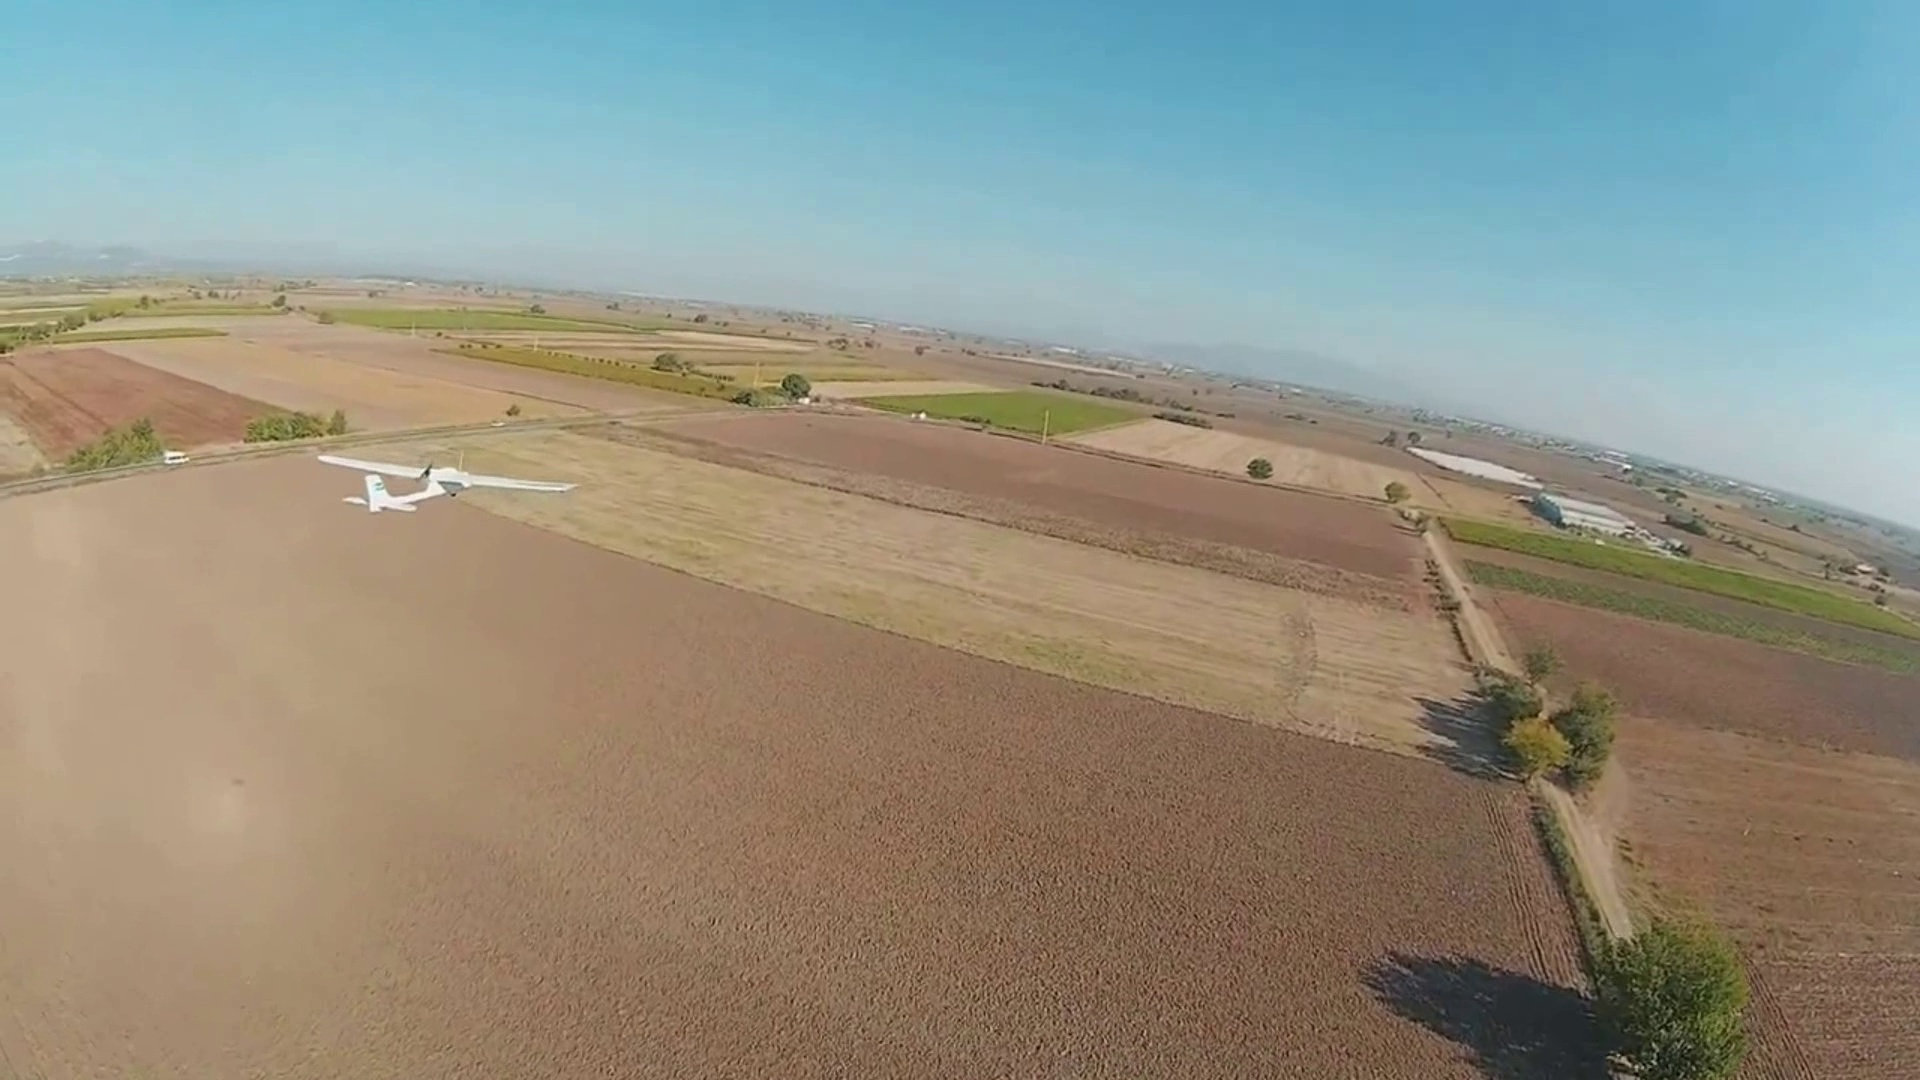airplane: (314, 453, 583, 510)
